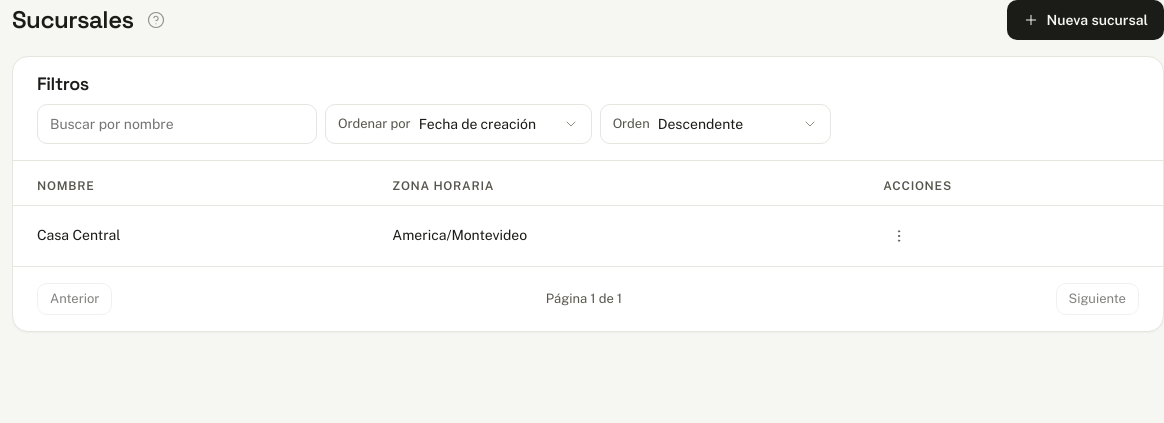
Test case: BranchListPage › eliminar › el 400 del RESTRICT muestra el mensaje del backend tal cual, y la fila sigue ahí
Check: the text "Casa Central" is shown, box [13,205,376,266]
Click the button named "Más acciones": coordinates (899, 236) [883,220,915,252]
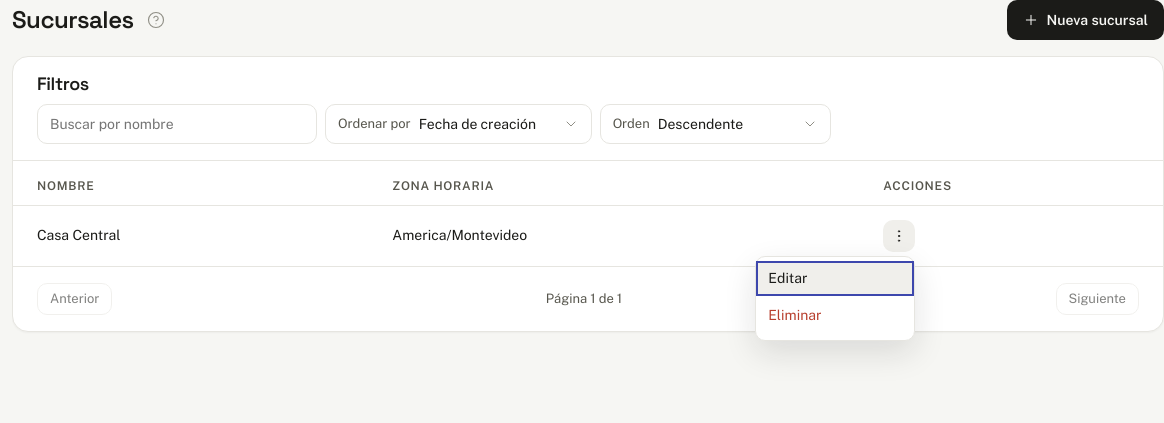
Click the menu item "Eliminar": coordinates (835, 316) [756,296,914,336]
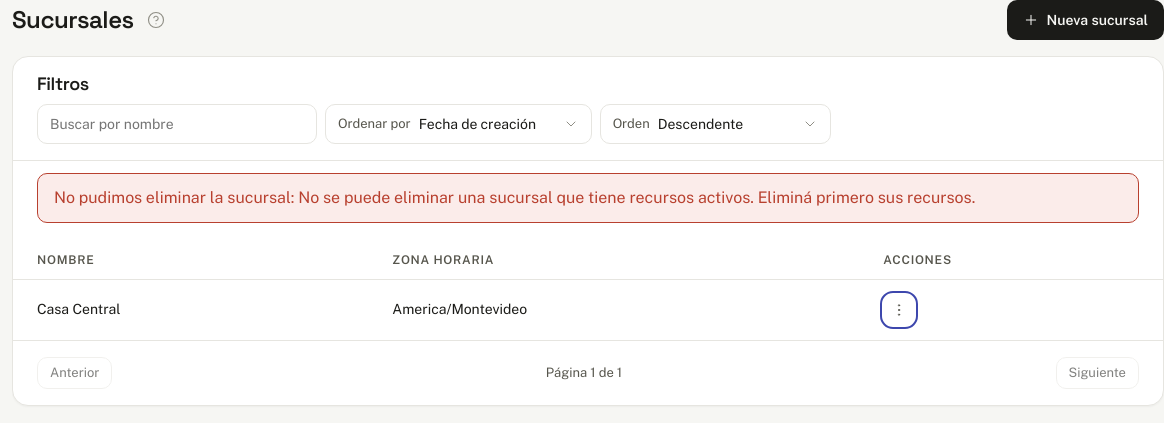
Check: the text "Casa Central" is shown, box [13,279,376,340]
Check: the message shows "No se puede eliminar una sucursal que tiene recursos activos. Eliminá primero sus recursos.", box [291,188,975,206]
